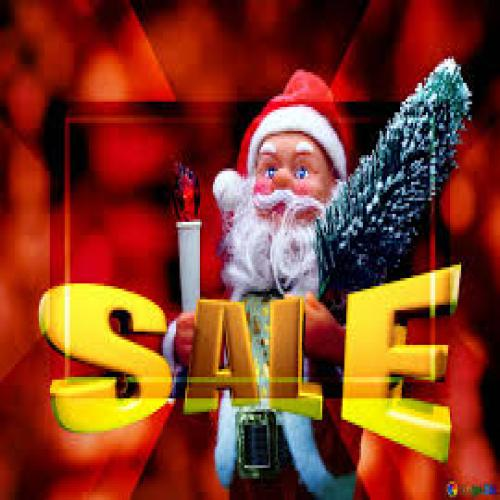Santa: (160, 67, 352, 500)
